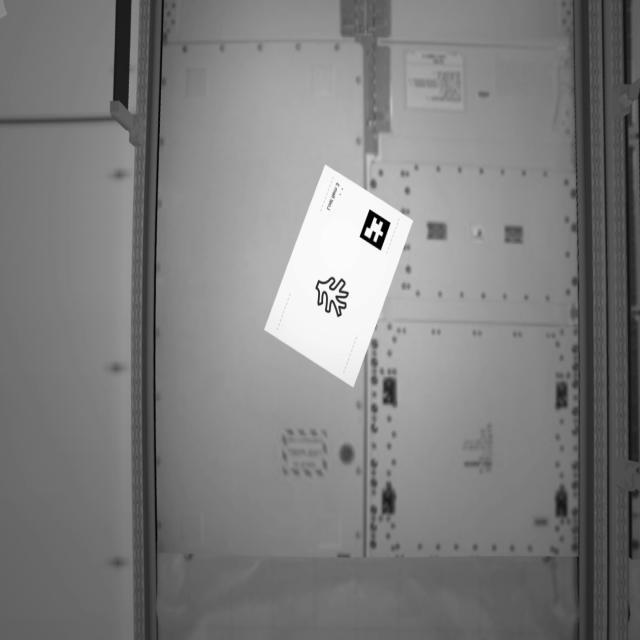coral: (308, 268, 352, 326)
